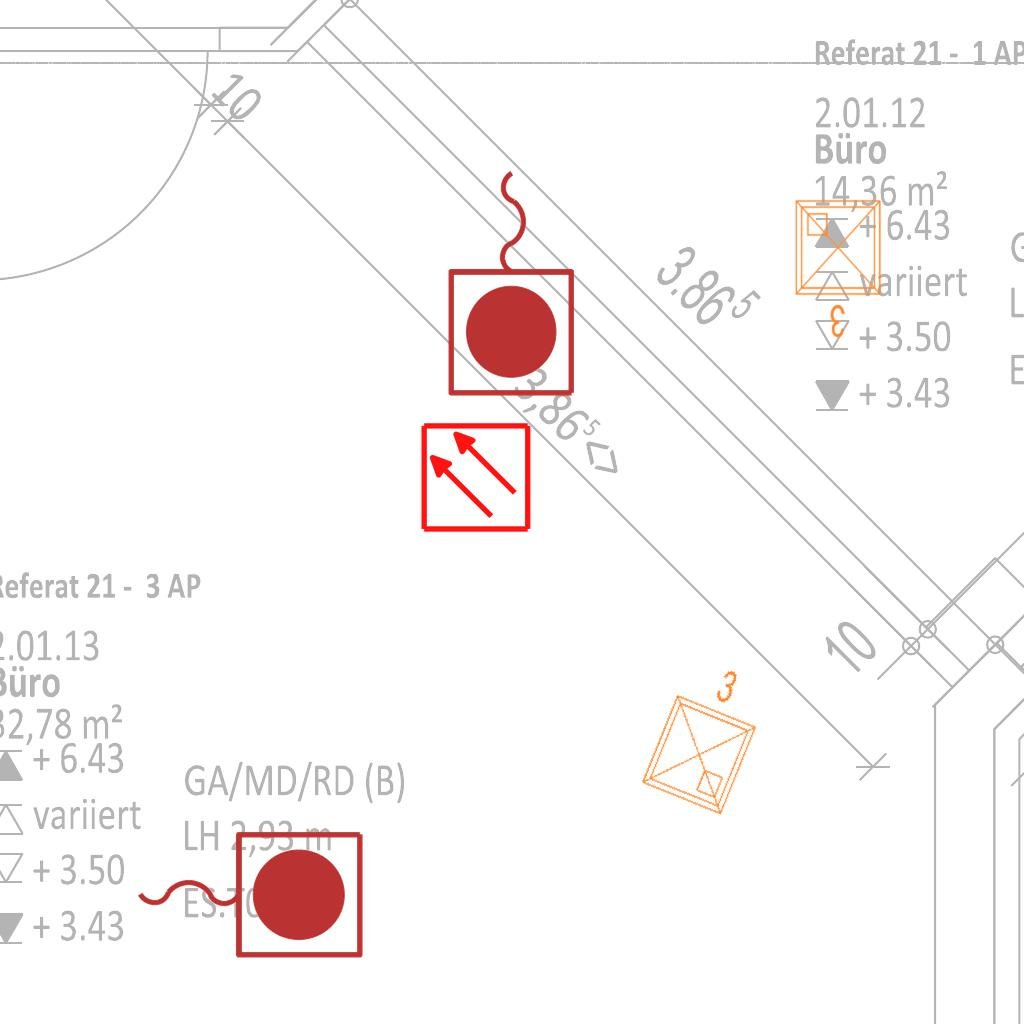Einbaudownlights_LED_Konferenzraeume: (628, 645, 782, 825), (788, 193, 892, 343)
RMO_Rauchmelder_optischer: (419, 421, 532, 534)
Zugtaster: (127, 821, 371, 965), (441, 160, 585, 404)
